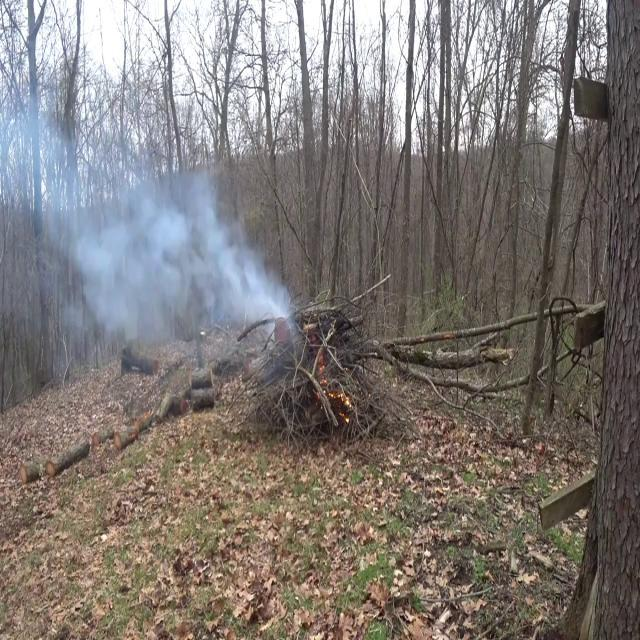Smoke: (54, 139, 292, 378)
